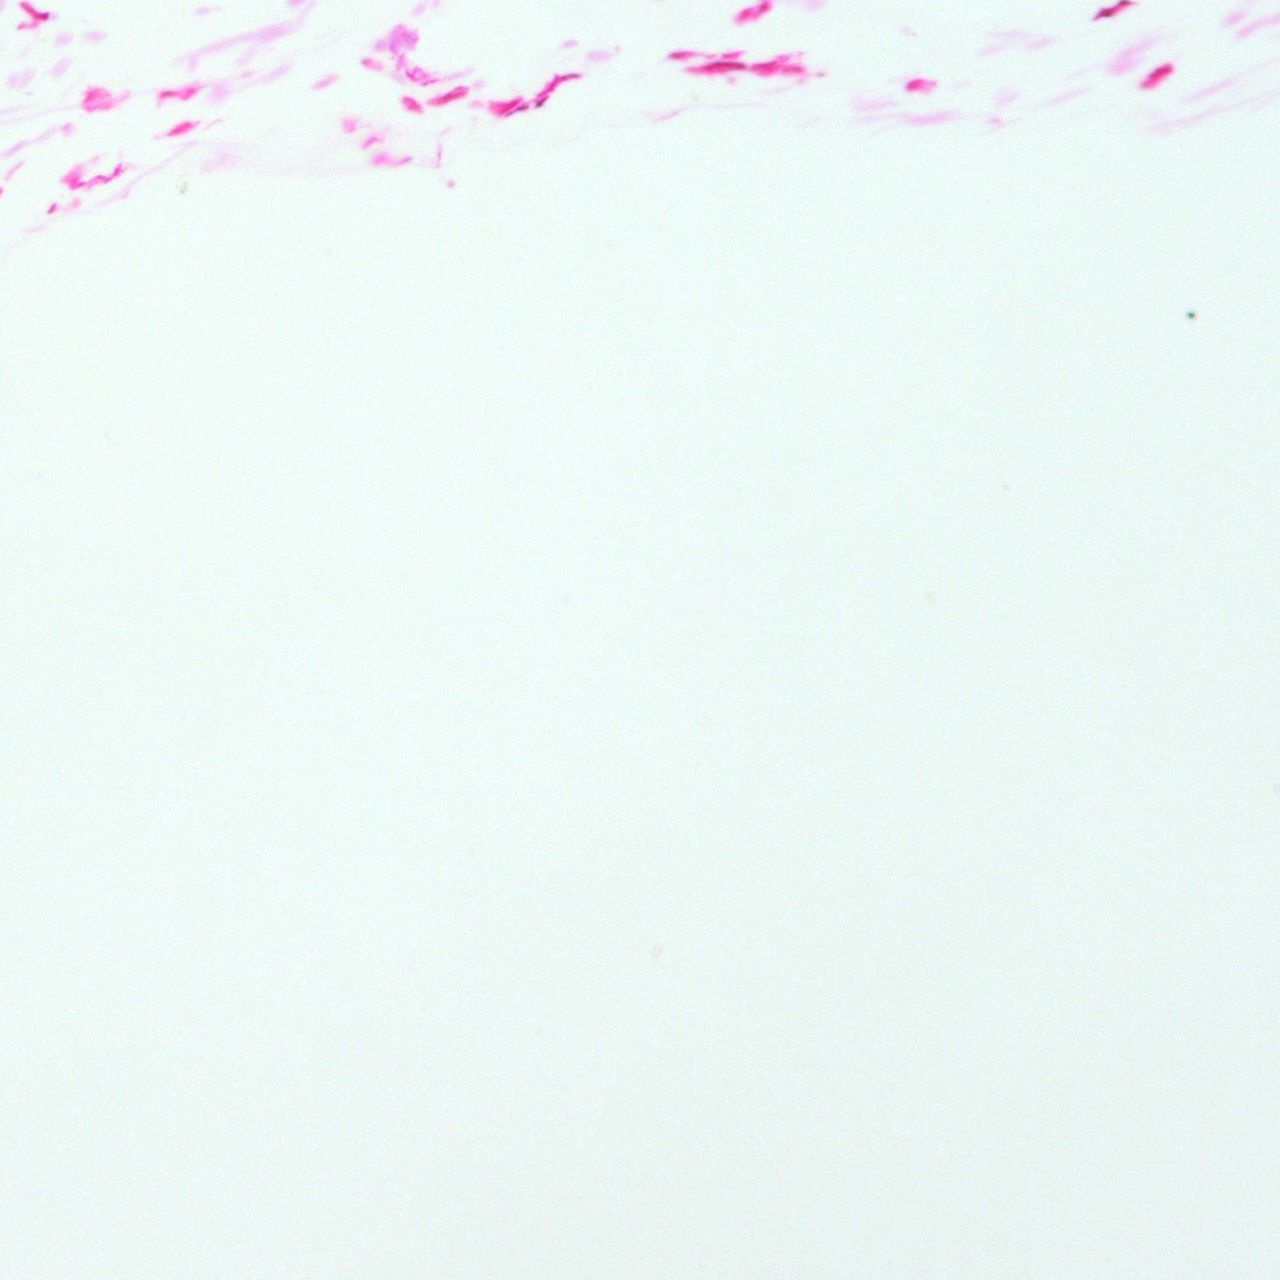dust: (1184, 309, 1196, 322)
nucleus-FG: (535, 64, 583, 100), (1141, 61, 1173, 90), (433, 84, 468, 105), (702, 61, 745, 72), (503, 103, 527, 121), (535, 95, 551, 109), (159, 89, 176, 98), (668, 52, 686, 60)
